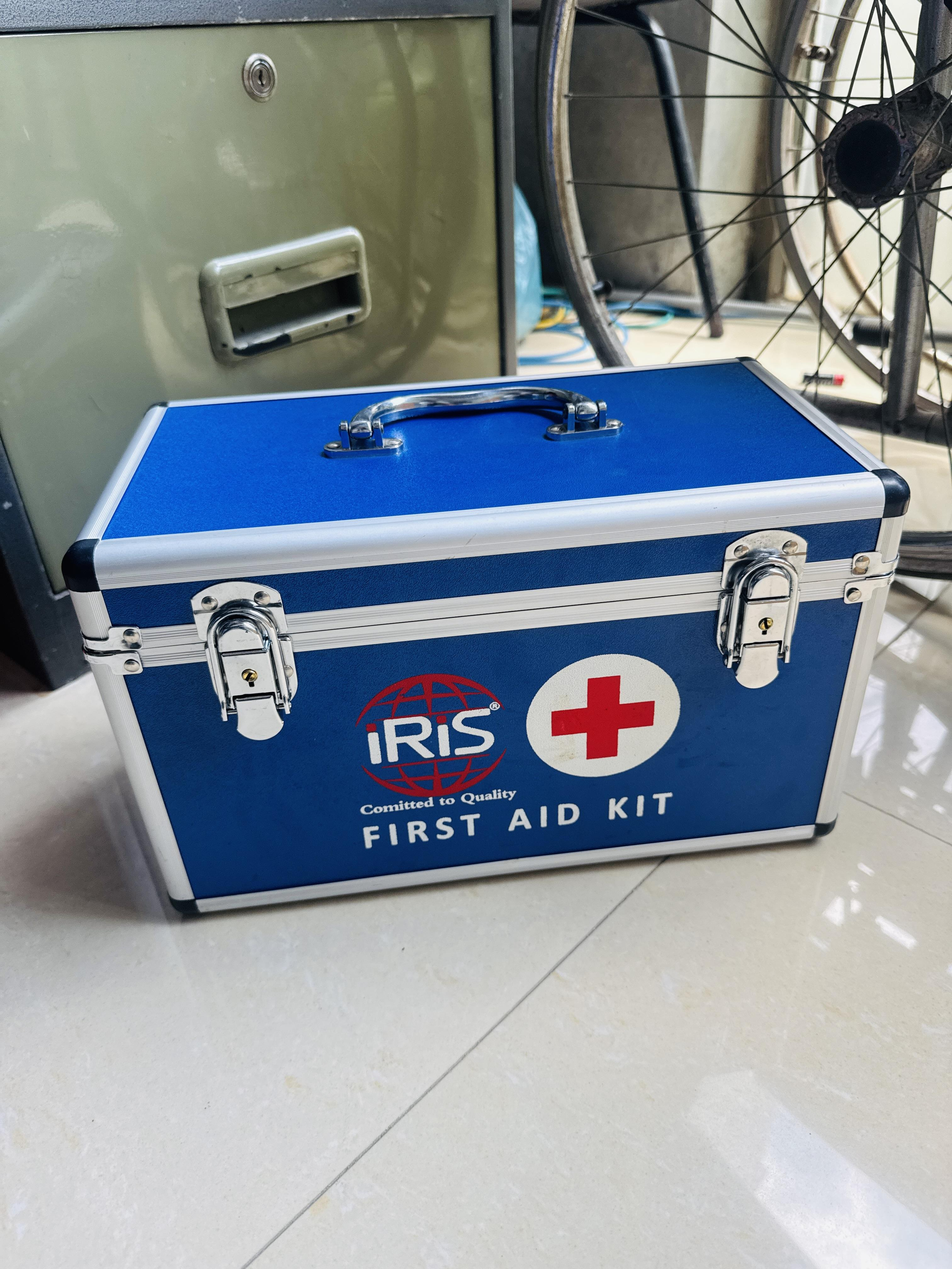FirstAidBox: (41, 335, 925, 931)
